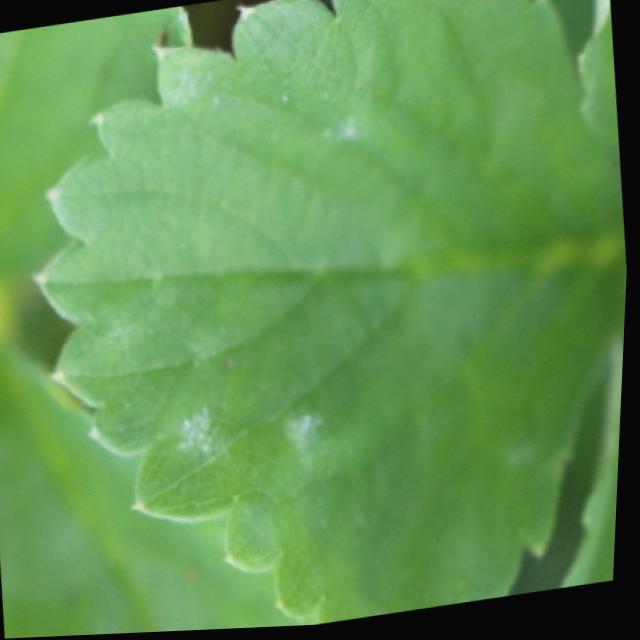Powdery Mildew Leaf: (34, 0, 629, 628)
